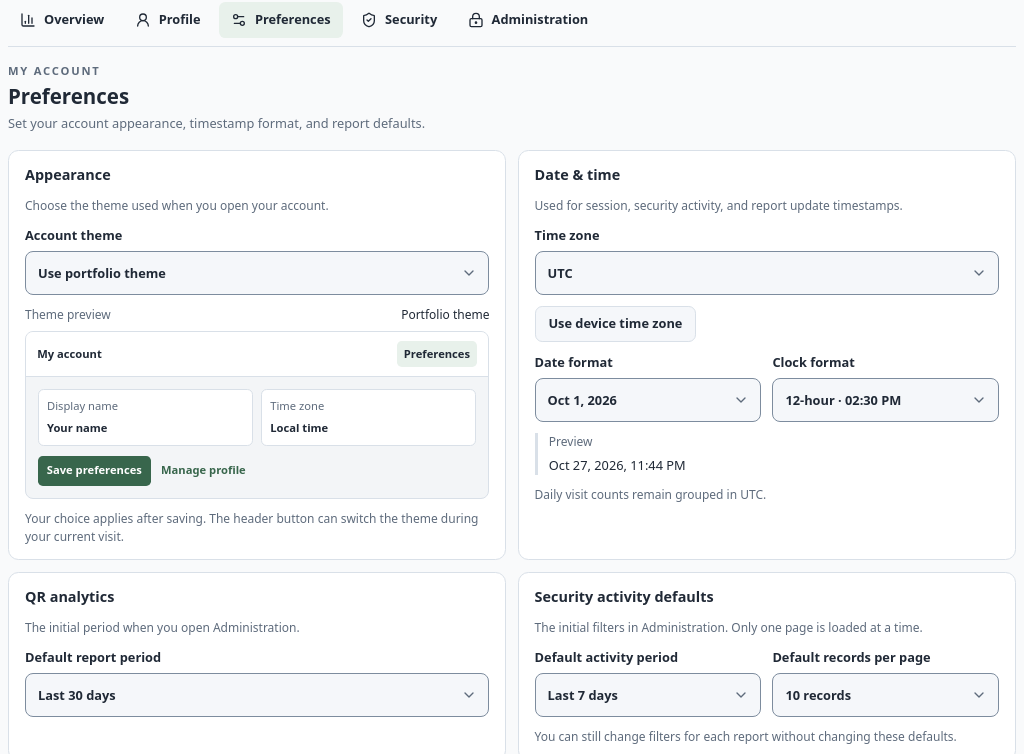
Test: Owner account › saves preferences with cookies and without caching
The width and height of the screenshot is (1024, 754).
Select "Dark" in the dropdown labelled "Account theme" at (257, 273), box [25,251,489,295]
(page scrolled)
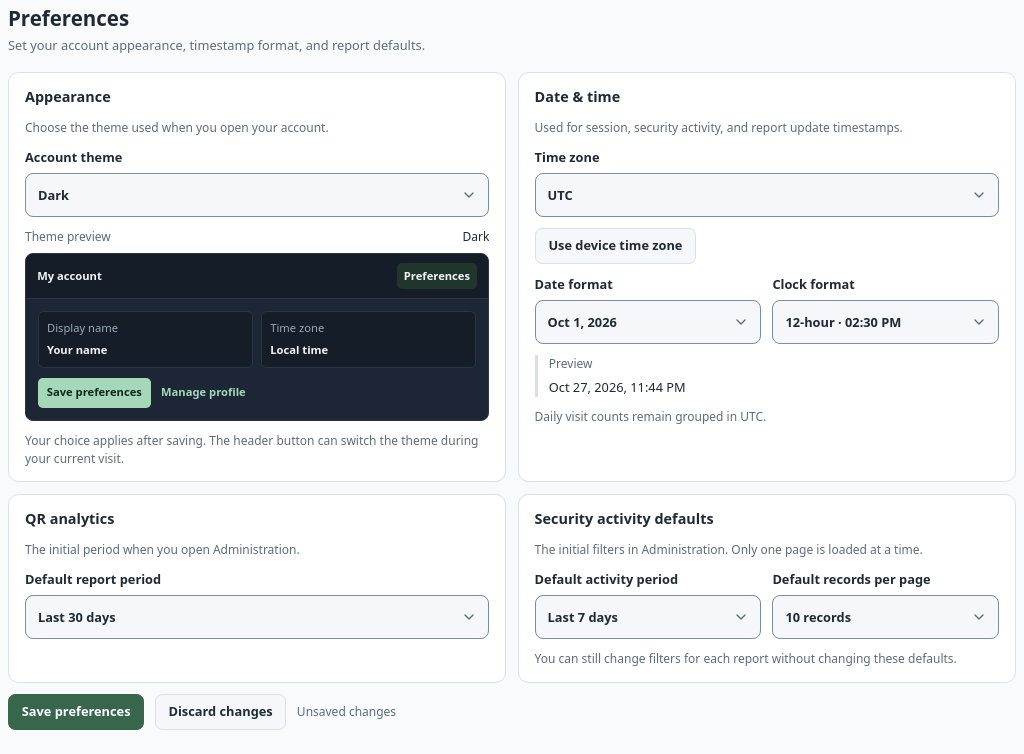
Click the button "Save preferences".
click(76, 712)  # box [8,694,144,730]
(page scrolled)
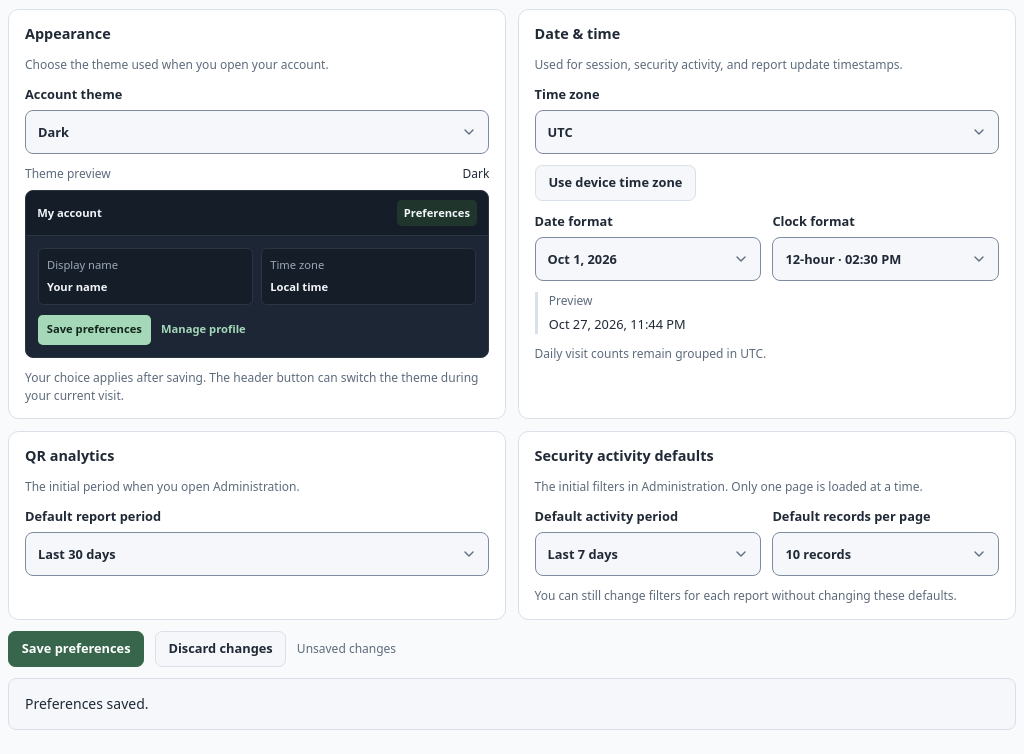
Expected: the text "Preferences saved." is shown, [8,678,1016,730]
